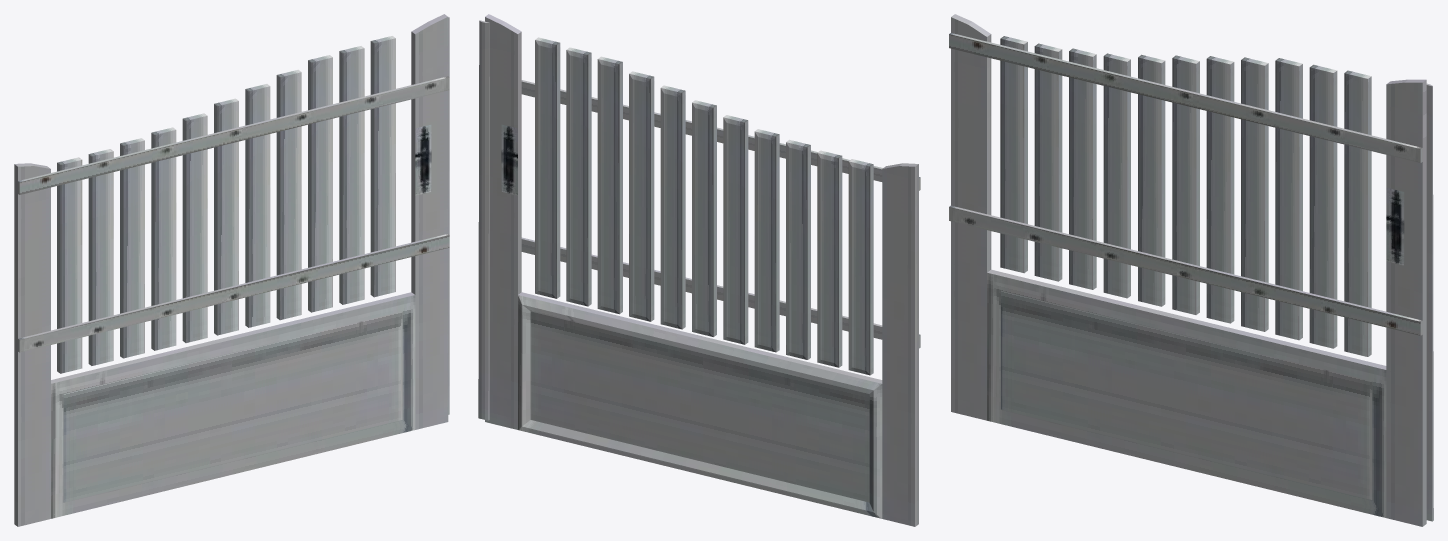
File: lf_plastic_gate_right.glb
3 views of the same model, side by side, from view 1: azimuth 30°, elevation 25°; view 2: azimuth 150°, elevation 25°; view 3: azimuth 330°, elevation 25° (orthographic). The views are drawn at different scales.
Parts seen in each view (by area): view 1: plastic_gate_right; view 2: plastic_gate_right; view 3: plastic_gate_right.
Boxes of the visible parts, box(x1,y1,x2,y2) form: plastic_gate_right: box(14, 14, 449, 526); plastic_gate_right: box(478, 14, 920, 526); plastic_gate_right: box(949, 14, 1433, 526).
Bounding box in the file's own units: 2.02 × 1.8 × 0.0605.
1 material, 1 textured.
